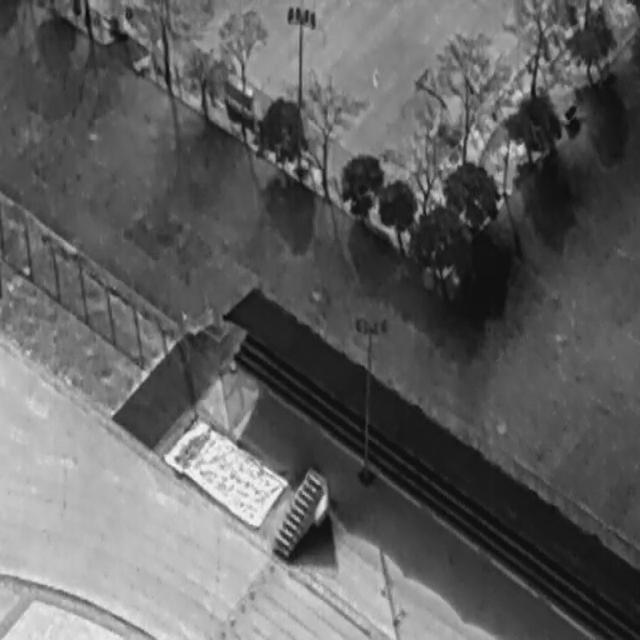Person: (371, 61, 379, 85)
